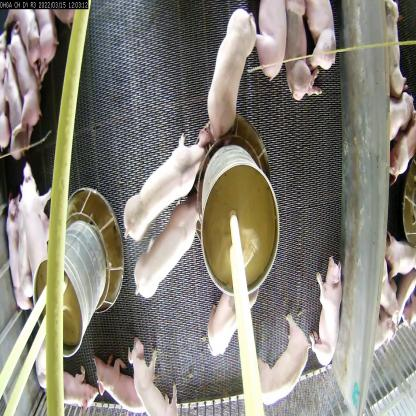Pig: (122, 130, 204, 243), (203, 7, 257, 146), (132, 196, 202, 302), (256, 308, 310, 405), (16, 159, 52, 285), (207, 280, 261, 360), (128, 330, 178, 414), (311, 250, 345, 369), (283, 0, 320, 107), (92, 346, 145, 415), (6, 192, 33, 312), (256, 1, 285, 80), (61, 362, 96, 414), (373, 306, 398, 361)
